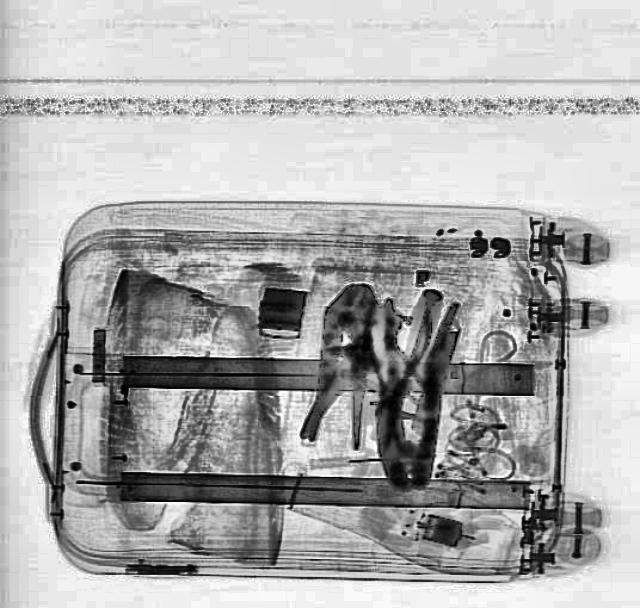Pliers: (370, 294, 458, 490), (367, 295, 435, 421)
